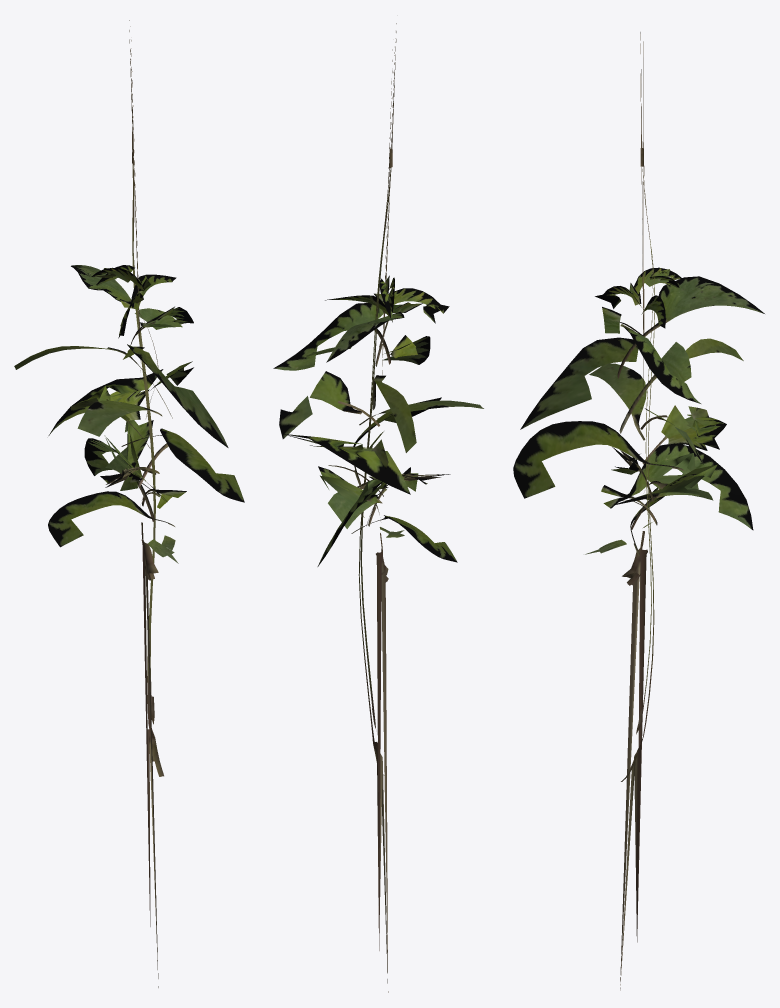
3 renders of one model, left to right at view 1: azimuth 30°, elevation 25°; view 2: azimuth 150°, elevation 25°; view 3: azimuth 270°, elevation 25°, orthographic. The views are drawn at different scales.
Visible parts, largest first — view 1: nettle_plant_tall_b_LOD0; view 2: nettle_plant_tall_b_LOD0; view 3: nettle_plant_tall_b_LOD0.
Part boxes in pixels (x1,y1,x2,y2): nettle_plant_tall_b_LOD0: (14, 20, 244, 987); nettle_plant_tall_b_LOD0: (273, 23, 483, 992); nettle_plant_tall_b_LOD0: (513, 32, 764, 990).
Bounding box in the file's own units: 0.1022 × 0.5965 × 0.1407.
Materials: 1 (1 with a texture image).
